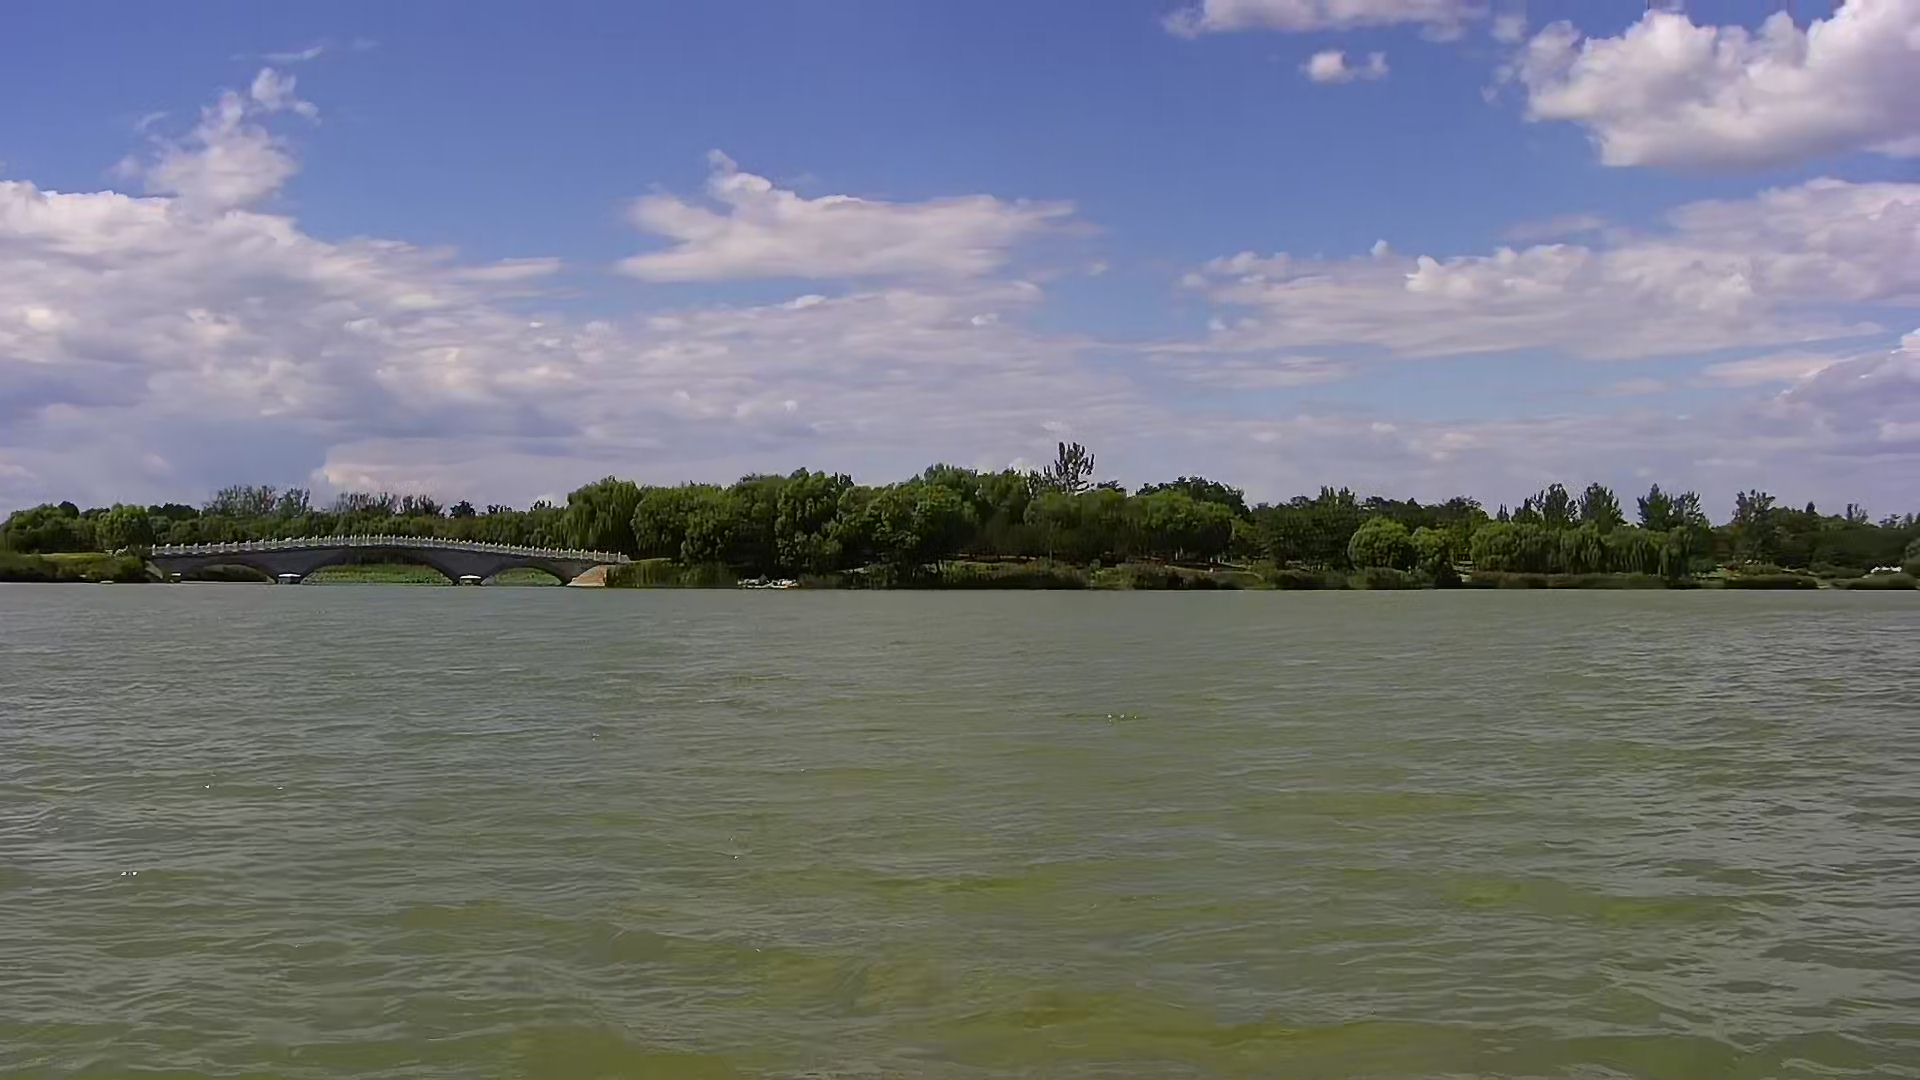bridge: (146, 525, 640, 593)
